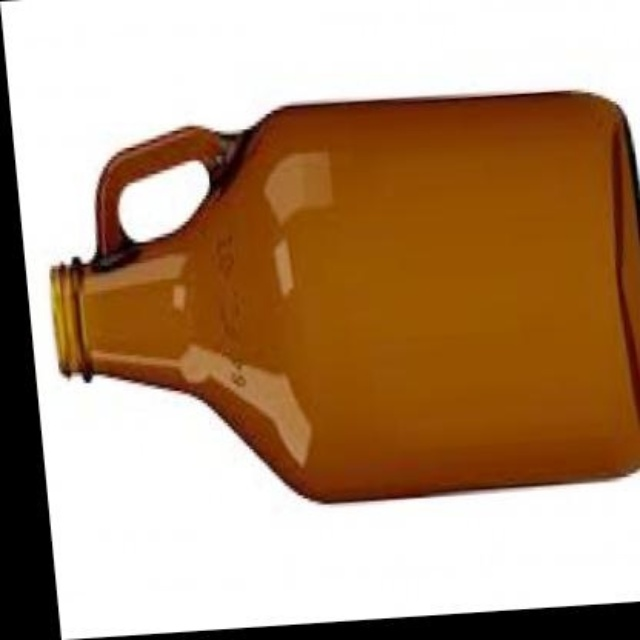trash: (51, 92, 638, 500), (117, 160, 211, 243)
